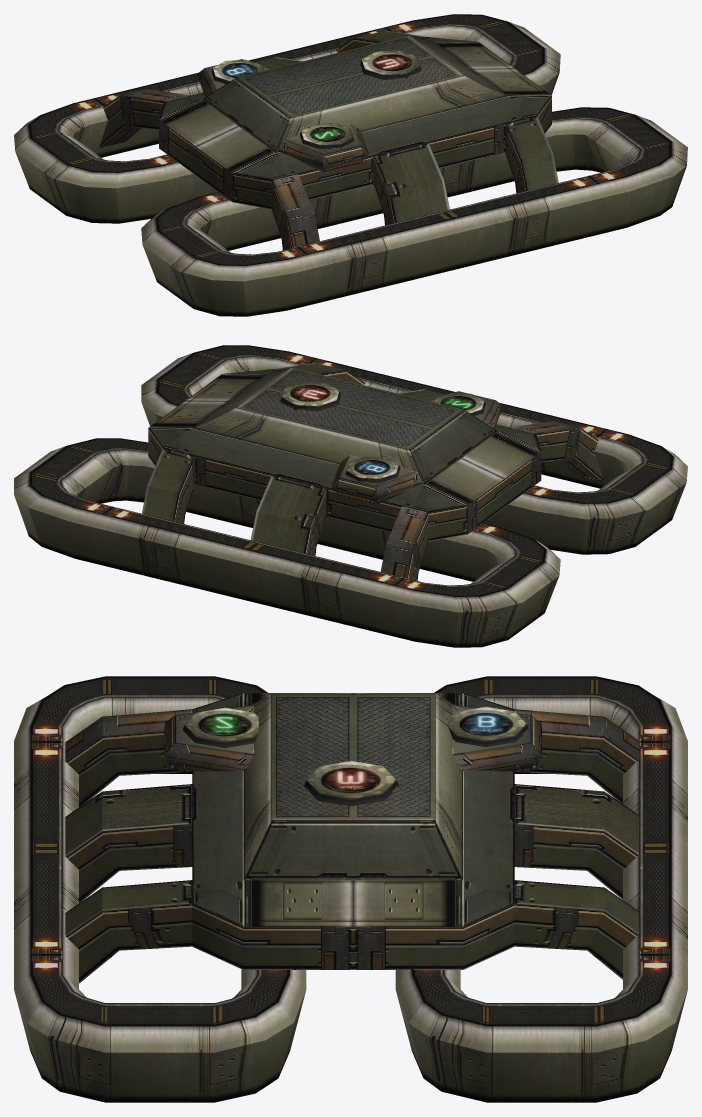
Rendered from heavy_unit.obj.
3 renders of one model, top to bottom at view 1: azimuth 30°, elevation 25°; view 2: azimuth 150°, elevation 25°; view 3: azimuth 270°, elevation 25°, orthographic. The views are drawn at different scales.
Parts seen in each view (by area): view 1: group7 pCube32, pTorus3 group7, group7 pTorus4, group7 pCube32 pCube83, group7 pCube32 pCylinder40, group7 pCube32 pCylinder5, group7 pCube32 pCylinder41, group7 pCube32 pCube82; view 2: group7 pCube32, group7 pTorus4, pTorus3 group7, group7 pCube32 pCube82, group7 pCube32 pCylinder40, group7 pCube32 pCylinder41, group7 pCube32 pCylinder5, group7 pCube32 pCube83; view 3: group7 pCube32, pTorus3 group7, group7 pTorus4, group7 pCube32 pCylinder40, group7 pCube32 pCube83, group7 pCube32 pCube82, group7 pCube32 pCylinder41, group7 pCube32 pCylinder5.
Part boxes in pixels (left/top/right/bottom): group7 pCube32: left=99, top=30, right=558, bottom=250; pTorus3 group7: left=141, top=107, right=687, bottom=316; group7 pTorus4: left=14, top=14, right=560, bottom=223; group7 pCube32 pCube83: left=278, top=123, right=368, bottom=171; group7 pCube32 pCylinder40: left=360, top=50, right=421, bottom=79; group7 pCube32 pCylinder5: left=300, top=123, right=354, bottom=149; group7 pCube32 pCylinder41: left=211, top=59, right=264, bottom=83; group7 pCube32 pCube82: left=197, top=59, right=269, bottom=96; group7 pCube32: left=142, top=362, right=604, bottom=580; group7 pTorus4: left=14, top=438, right=560, bottom=647; pTorus3 group7: left=141, top=345, right=687, bottom=554; group7 pCube32 pCube82: left=331, top=455, right=421, bottom=503; group7 pCube32 pCylinder40: left=280, top=381, right=341, bottom=411; group7 pCube32 pCylinder41: left=345, top=456, right=400, bottom=482; group7 pCube32 pCylinder5: left=433, top=392, right=485, bottom=416; group7 pCube32 pCube83: left=430, top=391, right=502, bottom=428; group7 pCube32: left=65, top=693, right=638, bottom=983; pTorus3 group7: left=14, top=676, right=306, bottom=1102; group7 pTorus4: left=395, top=676, right=687, bottom=1102; group7 pCube32 pCylinder40: left=304, top=761, right=398, bottom=806; group7 pCube32 pCube83: left=164, top=705, right=253, bottom=771; group7 pCube32 pCube82: left=452, top=705, right=541, bottom=771; group7 pCube32 pCylinder41: left=448, top=706, right=528, bottom=747; group7 pCube32 pCylinder5: left=182, top=707, right=258, bottom=748.
Bounding box in the file's own units: 43.32 × 9.61 × 33.14.
Materials: 4 (4 with a texture image).
